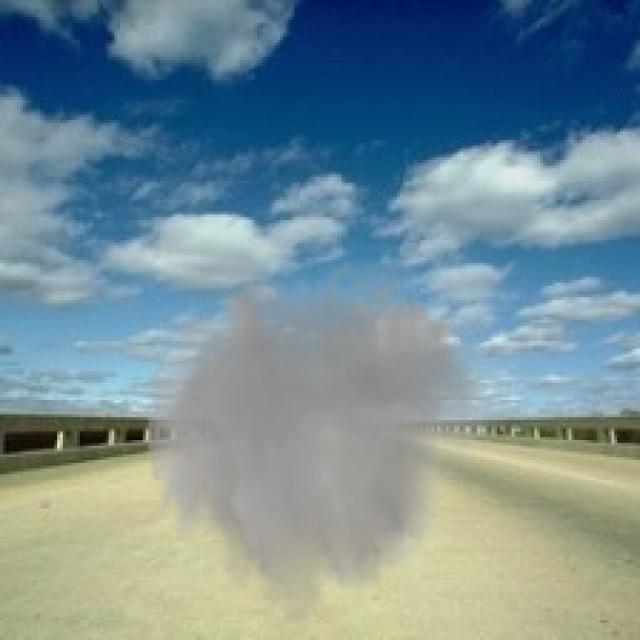Smoke: (137, 242, 514, 638)
